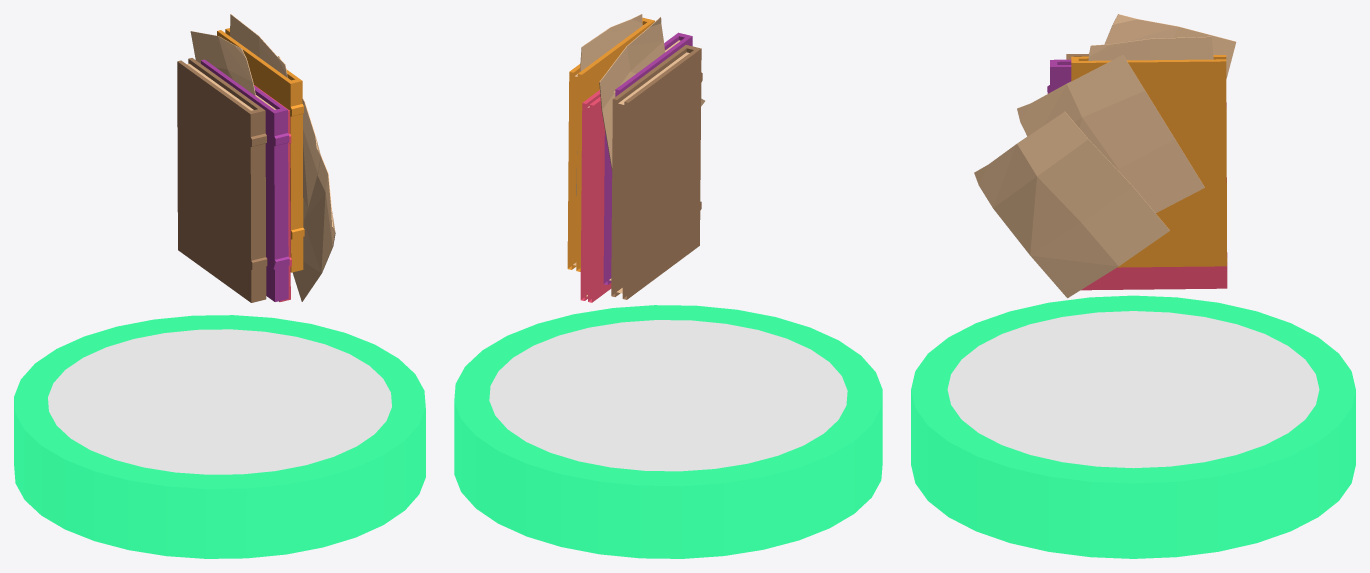
File: book.glb
3 renders of one model, left to right at view 1: azimuth 30°, elevation 25°; view 2: azimuth 150°, elevation 25°; view 3: azimuth 270°, elevation 25°, orthographic. The views are drawn at different scales.
Visible parts, largest first — view 1: Books; view 2: Books; view 3: Books.
Boxes of the visible parts, x1,y1,x2,y2 form: Books: [14, 14, 425, 558]; Books: [454, 14, 882, 558]; Books: [911, 14, 1355, 558].
Size of the model in its own units: 1.21 by 1.37 by 1.21.
Materials: 2 (1 with a texture image).
